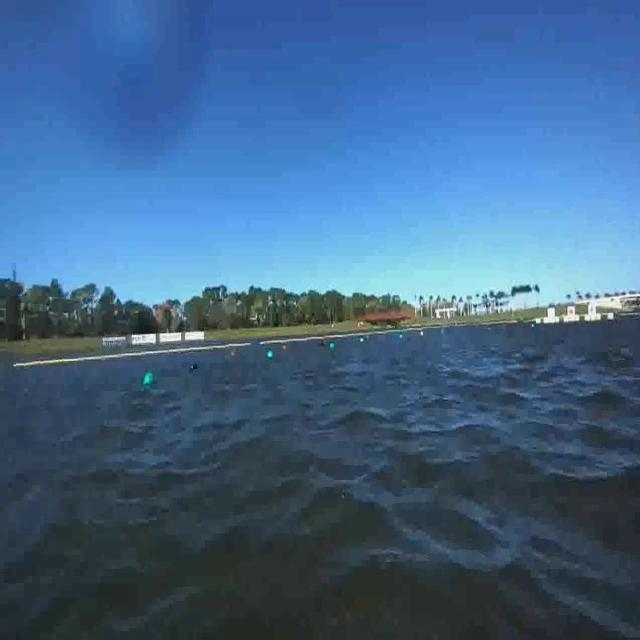green-buoy: (144, 372, 154, 386), (329, 343, 335, 352)
